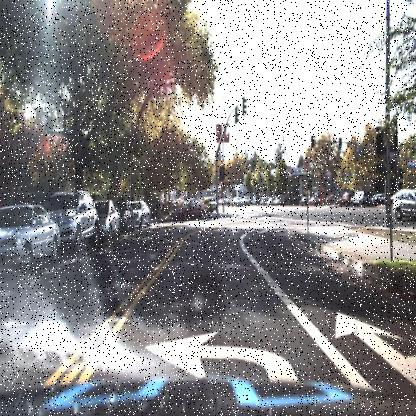car: (0, 201, 62, 274), (60, 187, 101, 253), (168, 194, 210, 224), (98, 198, 122, 242), (392, 187, 416, 221), (130, 199, 155, 228), (119, 198, 134, 234), (350, 189, 372, 208), (335, 190, 356, 208), (350, 190, 372, 206), (227, 194, 247, 210), (201, 193, 217, 211), (372, 190, 391, 204)
